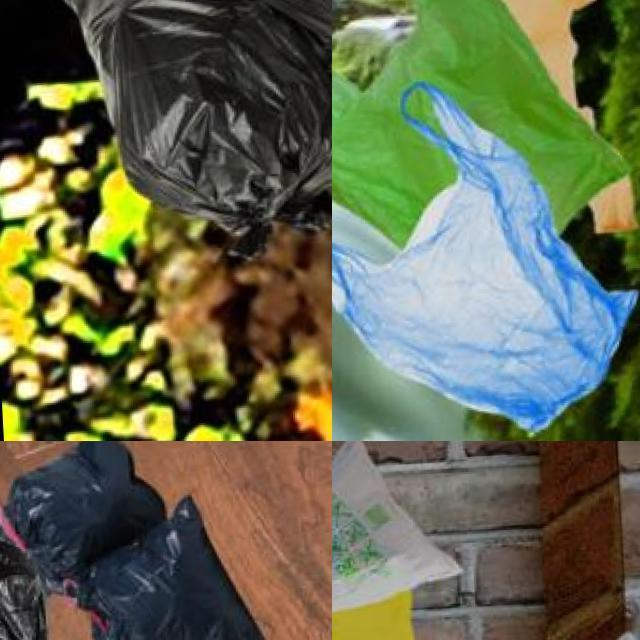waste: (332, 89, 640, 441), (332, 0, 637, 267), (54, 0, 332, 250), (78, 507, 265, 640), (332, 441, 473, 613), (3, 441, 166, 575), (0, 503, 86, 640), (332, 569, 428, 640)
